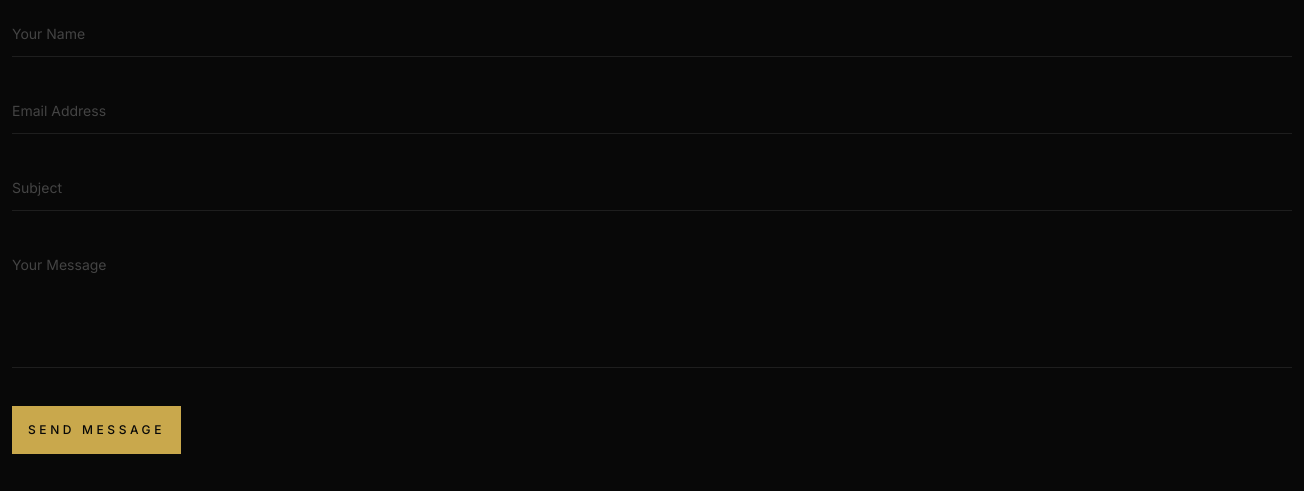
it: ContactForm › shows message length validation error
This screenshot has width=1304, height=491.
Step 1. Type "Jane Smith" into the field with placeholder "Your Name" → {"x": 652, "y": 34}, box [12,12,1292,57]
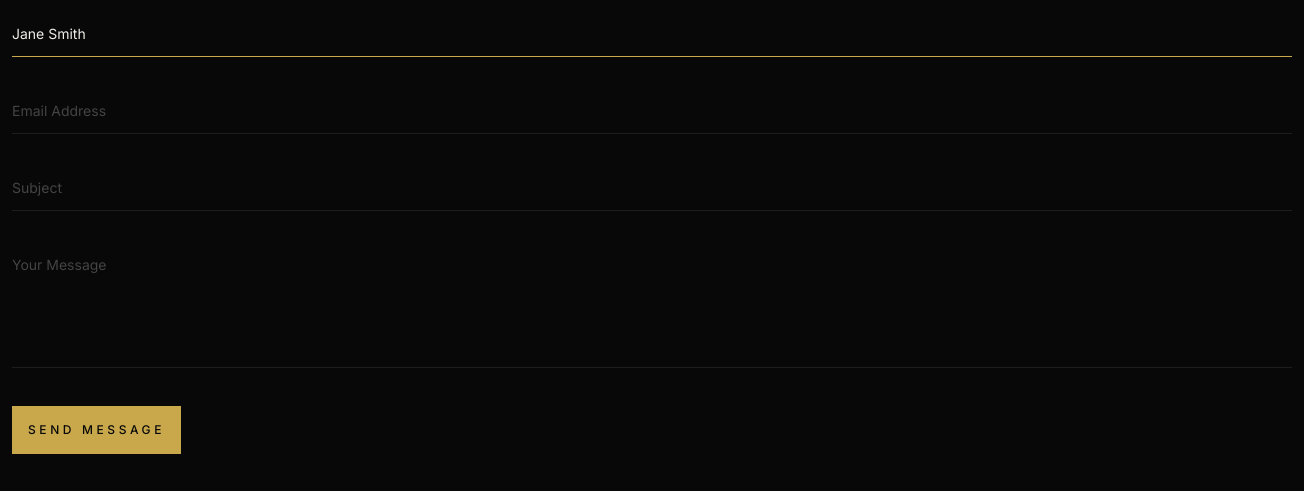
Step 2. Type "jane@example.com" into the field with placeholder "Email Address" → {"x": 652, "y": 112}, box [12,89,1292,134]
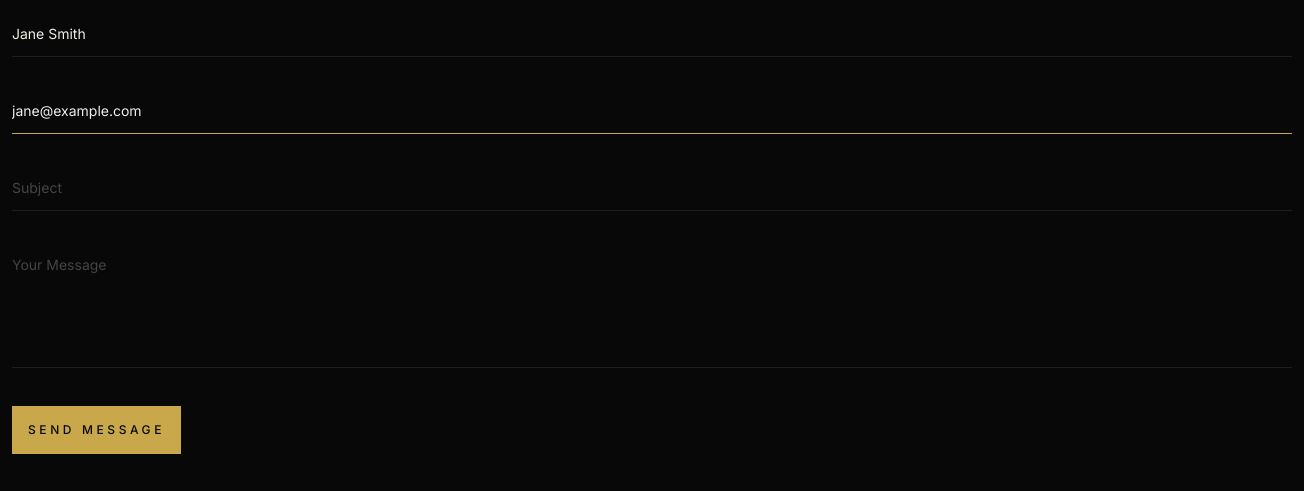
Step 3. Type "Booking Request" into the field with placeholder "Subject" → {"x": 652, "y": 188}, box [12,166,1292,211]
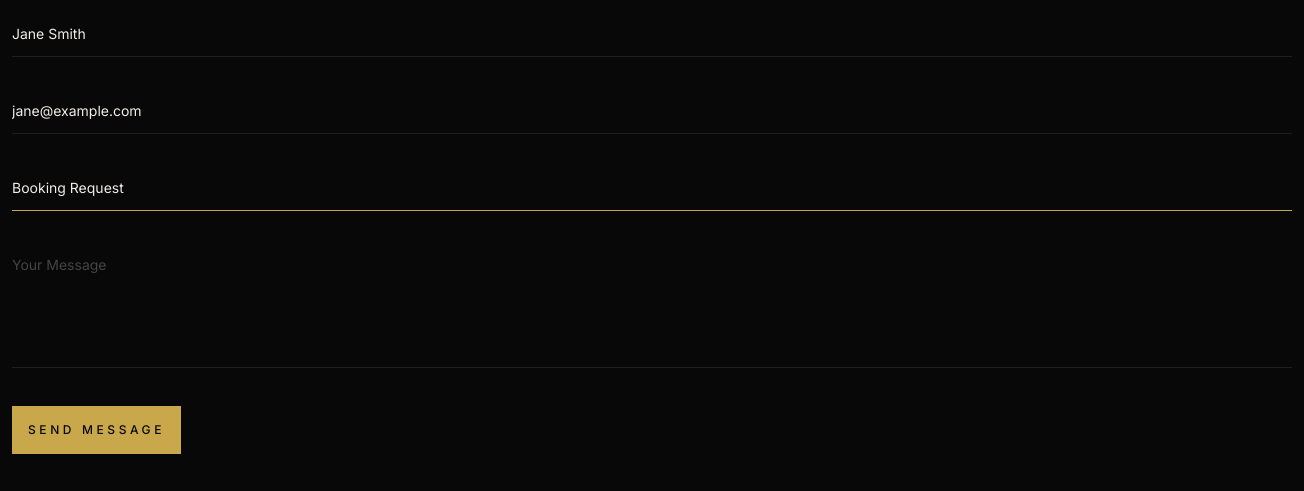
Step 4. Type "Too short" into the text box with placeholder "Your Message" → {"x": 652, "y": 306}, box [12,243,1292,368]
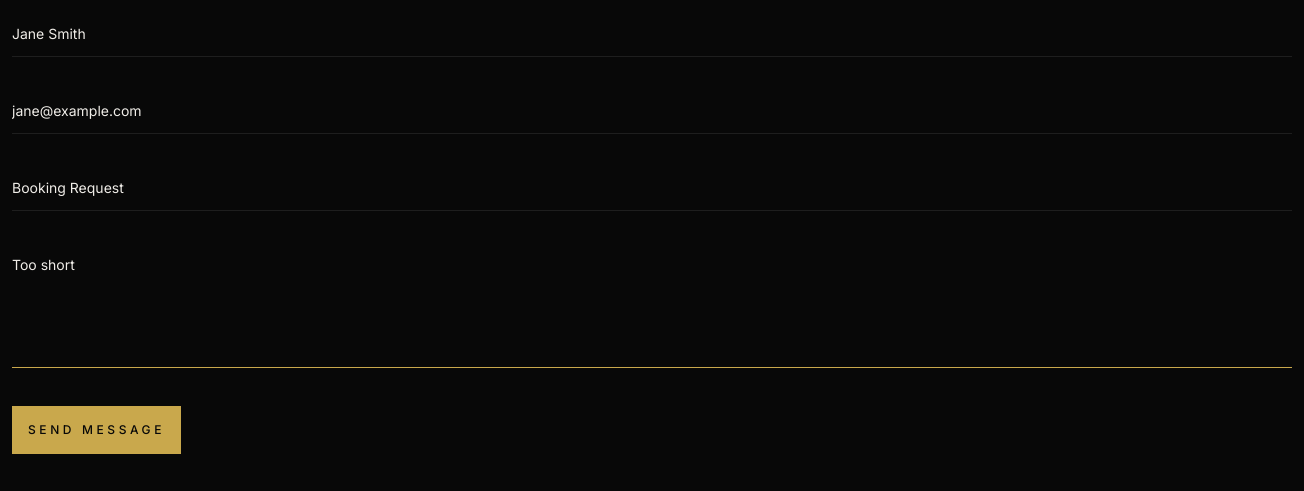
Step 5. Click the button "Send Message" → {"x": 96, "y": 430}, box [12,406,181,454]
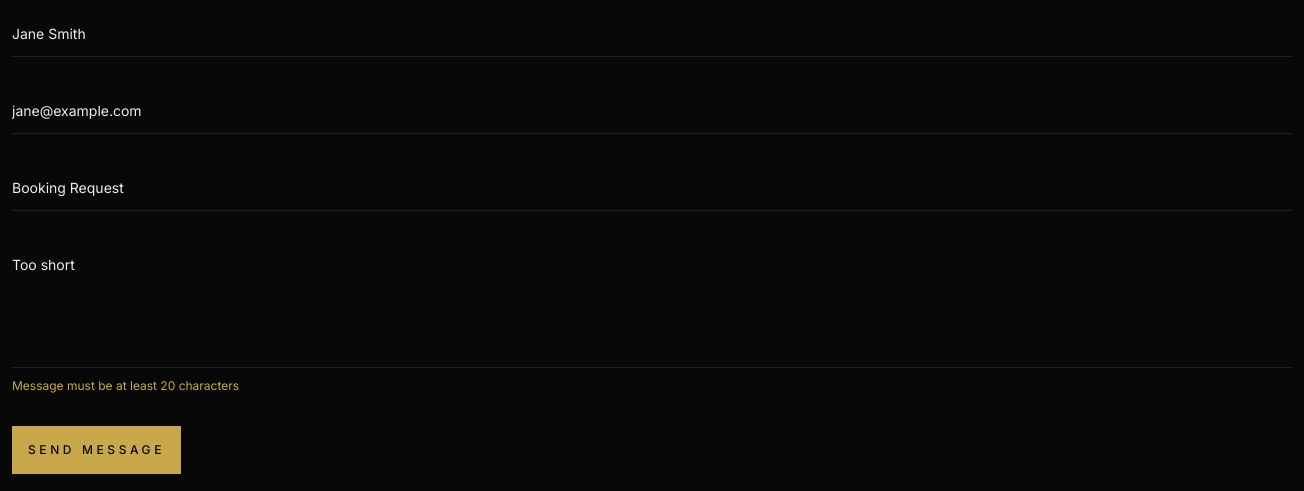
Result: the text "Message must be at least 20 characters" is shown at [12,378,239,393]
